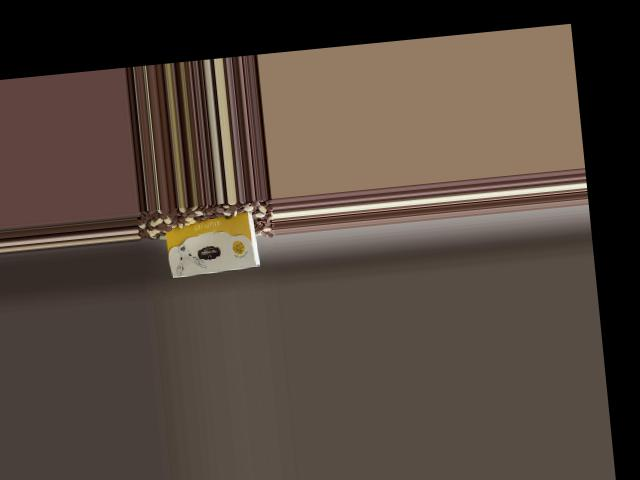chocolate: (158, 208, 265, 282)
